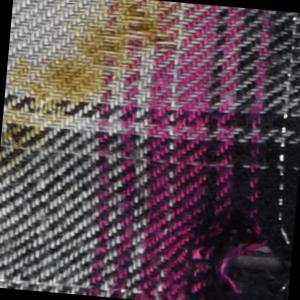Damage: (182, 194, 297, 300)
Stain: (1, 1, 173, 178)
